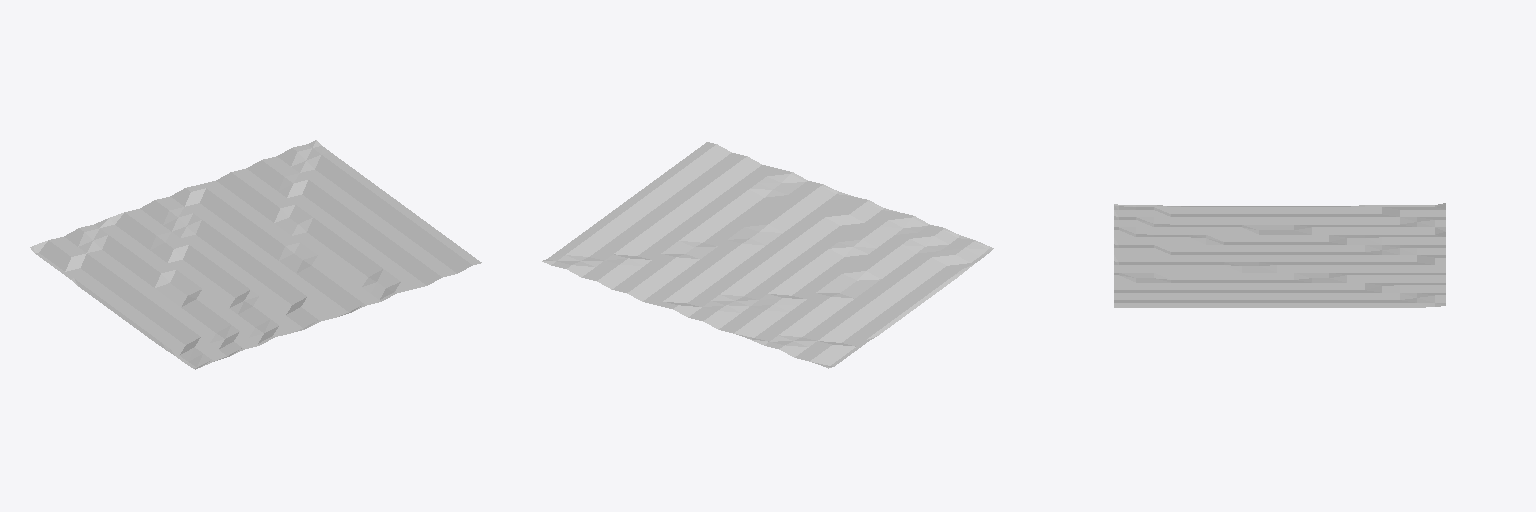
File: terrain_12_-13.obj
3 renders of one model, left to right at view 1: azimuth 30°, elevation 25°; view 2: azimuth 150°, elevation 25°; view 3: azimuth 270°, elevation 25°, orthographic.
Visible parts, largest first — view 1: terrain_12_-13_Plane.040; view 2: terrain_12_-13_Plane.040; view 3: terrain_12_-13_Plane.040.
Boxes of the visible parts, <box> form: terrain_12_-13_Plane.040: <box>30,140,481,369</box>; terrain_12_-13_Plane.040: <box>542,142,993,368</box>; terrain_12_-13_Plane.040: <box>1114,203,1445,307</box>.
Bounding box in the file's own units: 32 × 4.34 × 32.